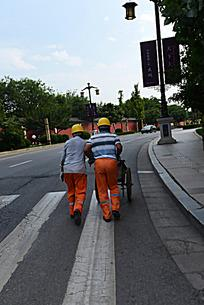boots: (73, 208, 81, 224), (111, 210, 119, 219), (68, 204, 73, 216), (103, 214, 111, 221)
hard-hat: (97, 116, 110, 127), (71, 124, 83, 134)
person: (84, 117, 122, 222), (59, 123, 94, 225)
